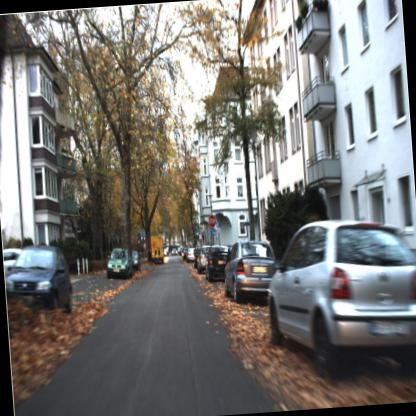mandatory: (207, 226, 218, 240)
other: (206, 210, 219, 228)
